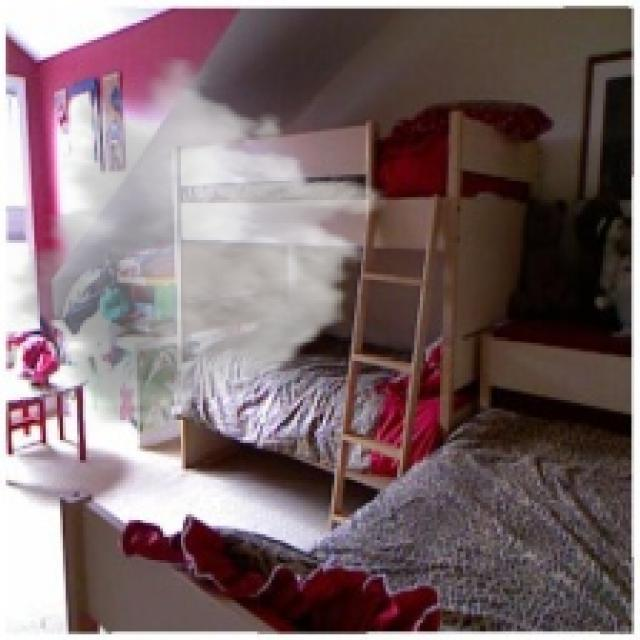Smoke: (6, 54, 392, 434)
